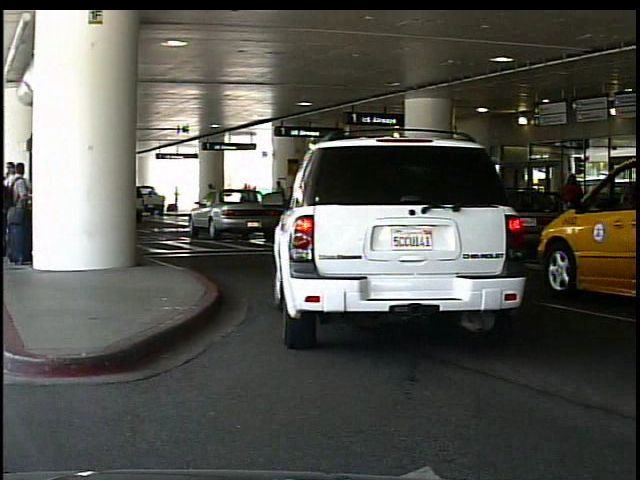person: (558, 170, 588, 256), (175, 186, 183, 213)
